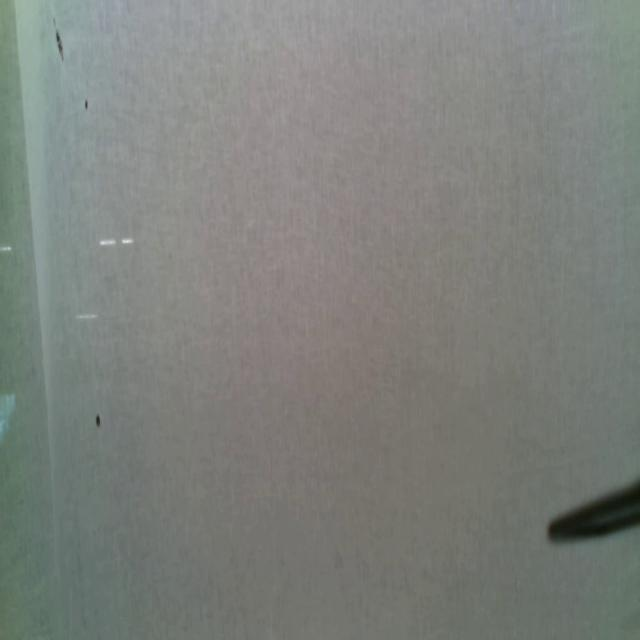crease: (13, 0, 54, 571)
hole: (52, 18, 65, 64), (95, 412, 102, 434), (84, 98, 89, 111)
